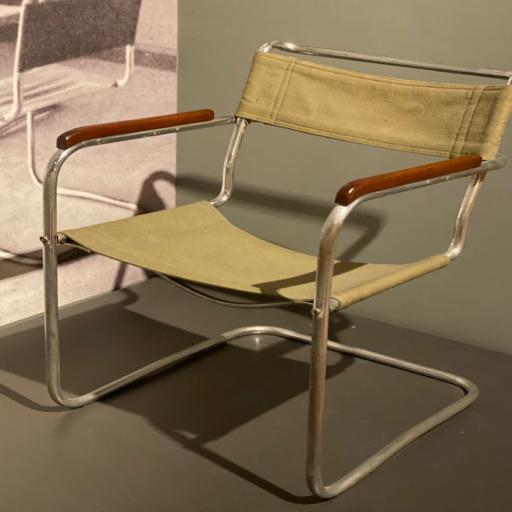bus: (41, 42, 511, 498), (0, 0, 141, 187), (0, 0, 141, 186)
